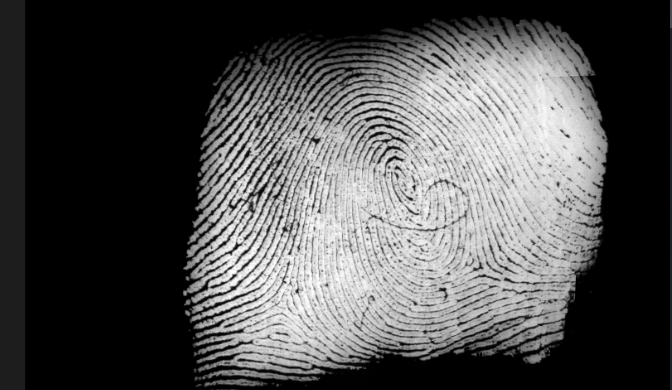deltas: (260, 271, 309, 318), (464, 235, 503, 284)
nucleo: (379, 148, 417, 198)
